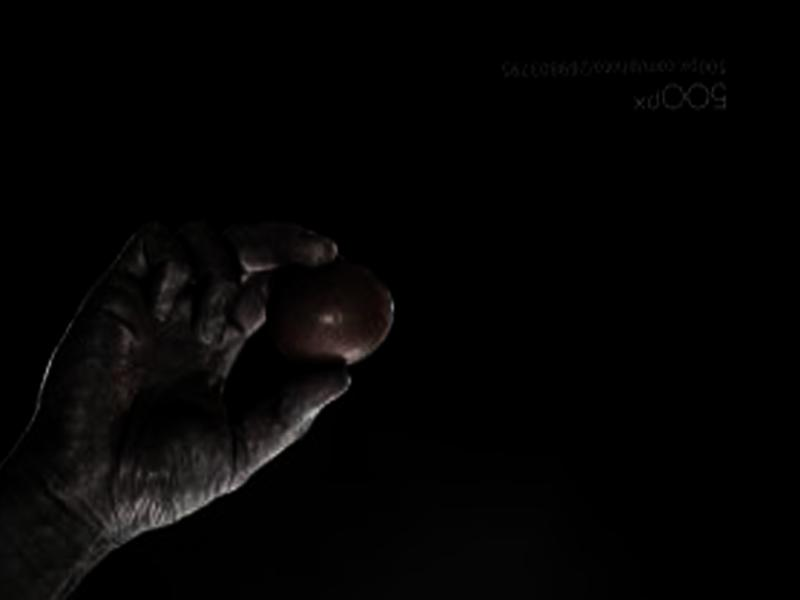Eggs: (262, 262, 394, 372)
